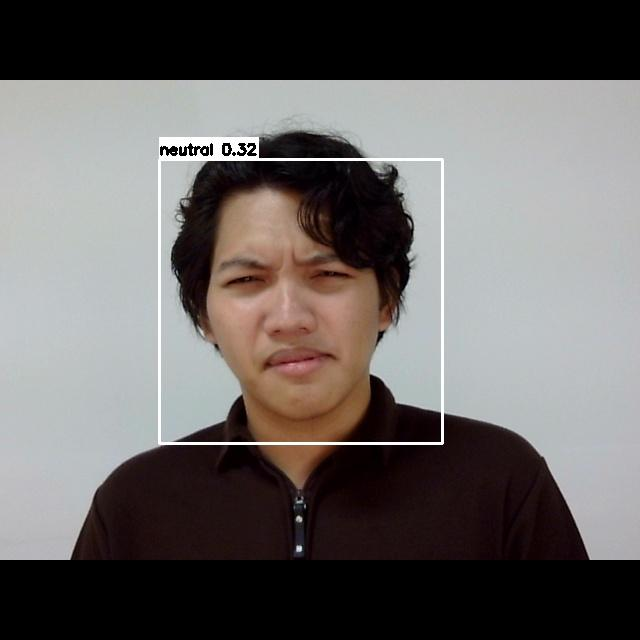Disgust: (195, 229, 390, 398)
